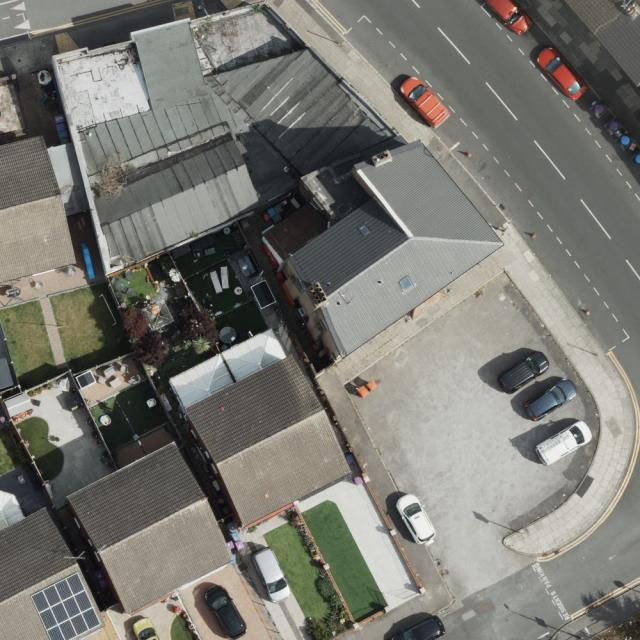roof: (55, 3, 506, 358), (183, 354, 352, 527), (67, 443, 236, 614), (0, 508, 105, 640), (0, 133, 76, 283), (563, 0, 640, 91)
skylight: (399, 274, 416, 294), (357, 222, 374, 239)
solar: (33, 571, 102, 640)
